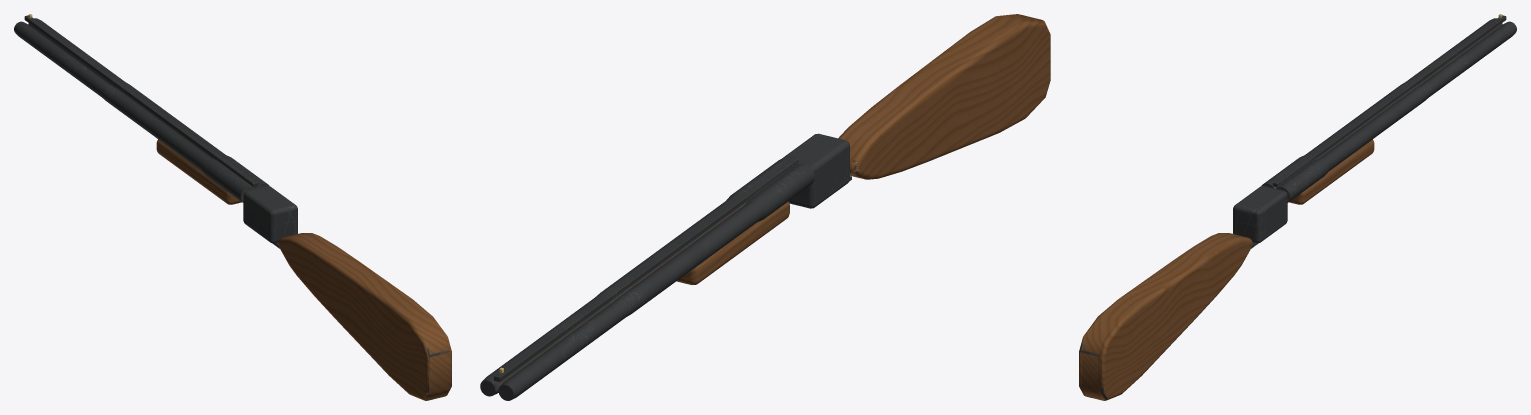
The model's file is double_barrel.gltf.
The picture shows the model from 3 angles, left to right: view 1: azimuth 30°, elevation 25°; view 2: azimuth 150°, elevation 25°; view 3: azimuth 330°, elevation 25°; orthographic projection. The views are drawn at different scales.
Visible parts, largest first — view 1: Stock, Frame; view 2: Stock, Frame; view 3: Stock, Frame.
Part boxes in pixels (<box>): Stock: <box>278,233,451,400</box>; Frame: <box>14,14,297,248</box>; Stock: <box>838,14,1050,179</box>; Frame: <box>480,133,851,400</box>; Stock: <box>1079,233,1252,400</box>; Frame: <box>1233,14,1516,248</box>.
Size of the model in its own units: 0.0473 by 0.1377 by 1.12.
Materials: 4 (4 with a texture image).
